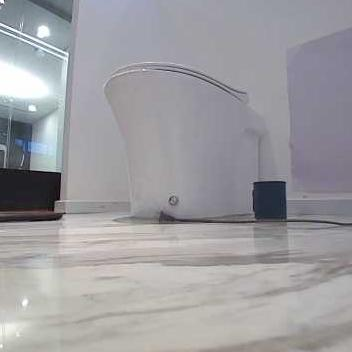toilet: (99, 59, 262, 219)
wire: (151, 208, 351, 228)
